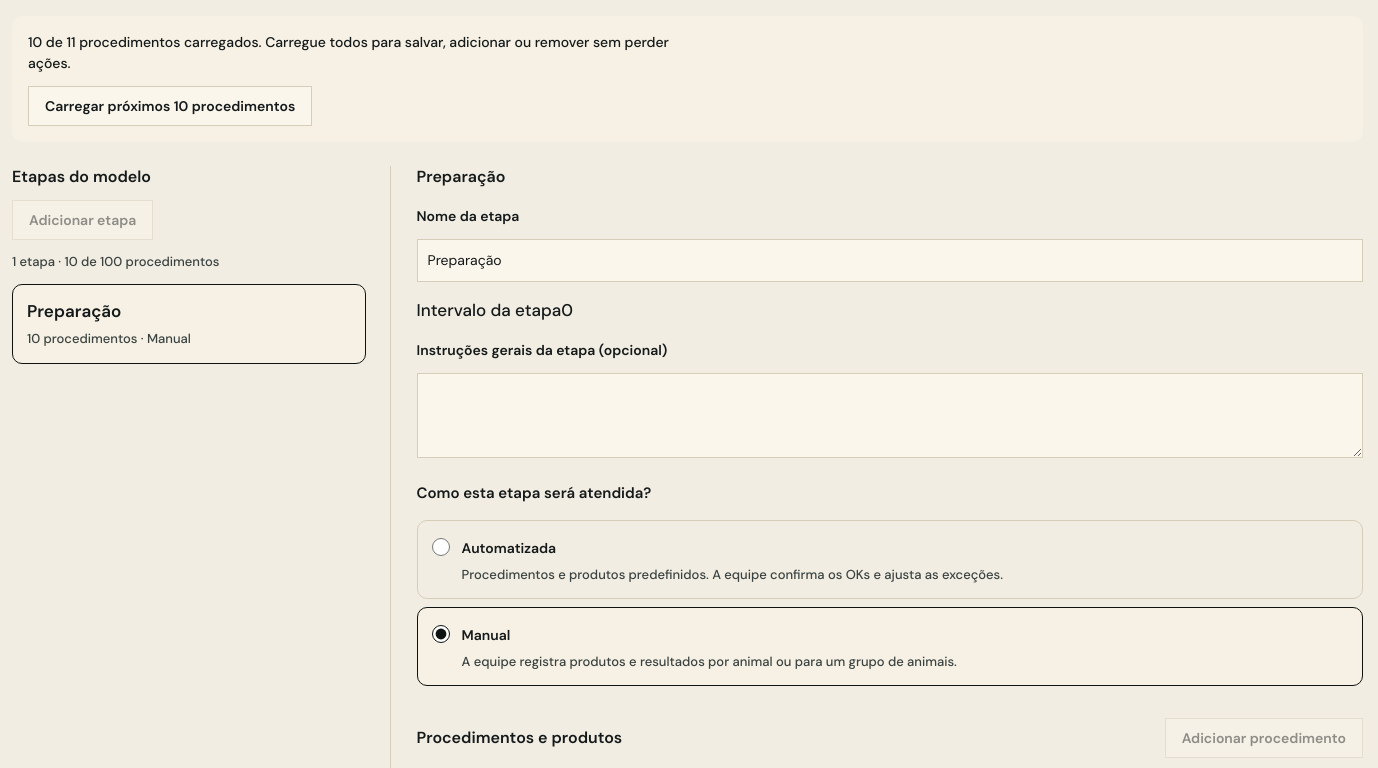
Test: mantém o salvamento incompleto quando a revisão muda entre páginas
Click the button "Carregar próximos 10 procedimentos".
click(170, 106)  # box top-left (28, 86), bottom-right (312, 126)
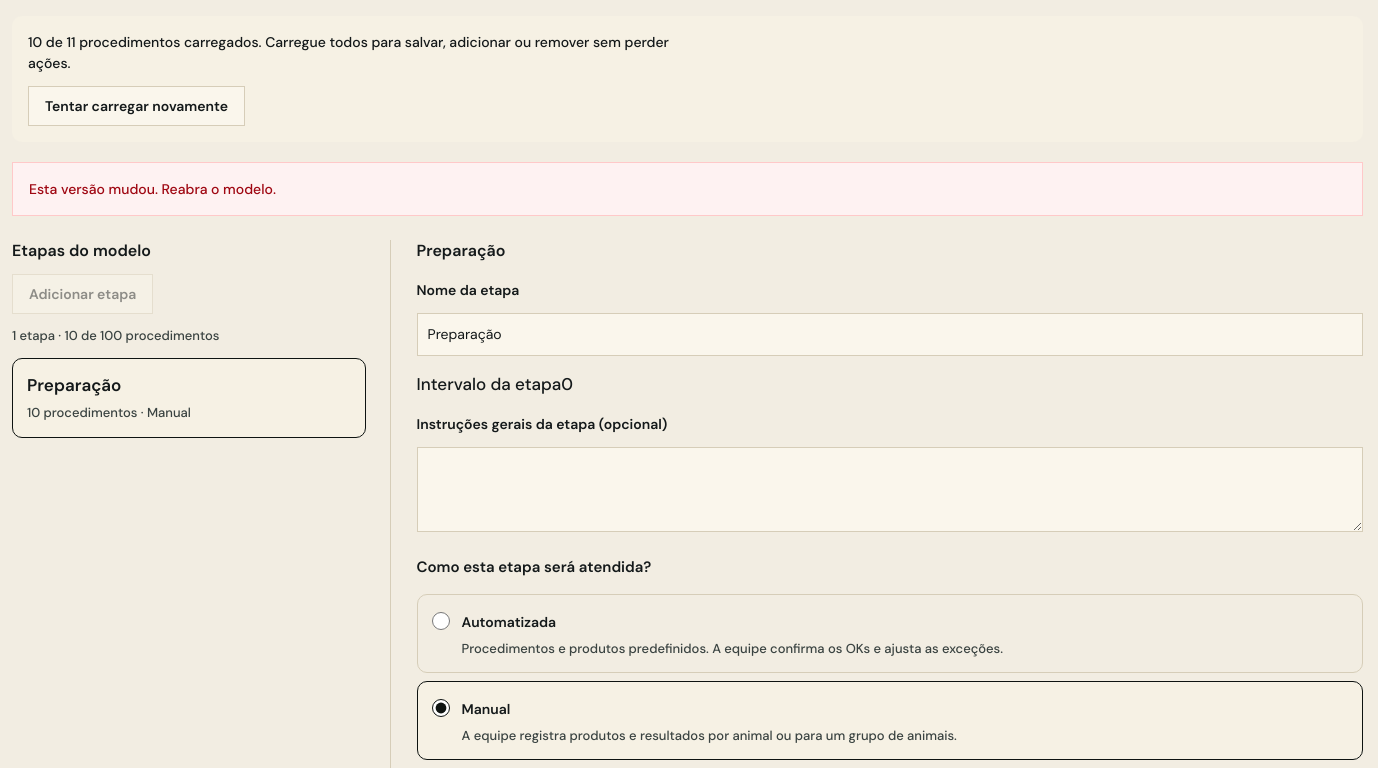
Check: the text "Esta versão mudou. Reabra o modelo." is shown, box top-left (12, 162), bottom-right (1363, 216)
